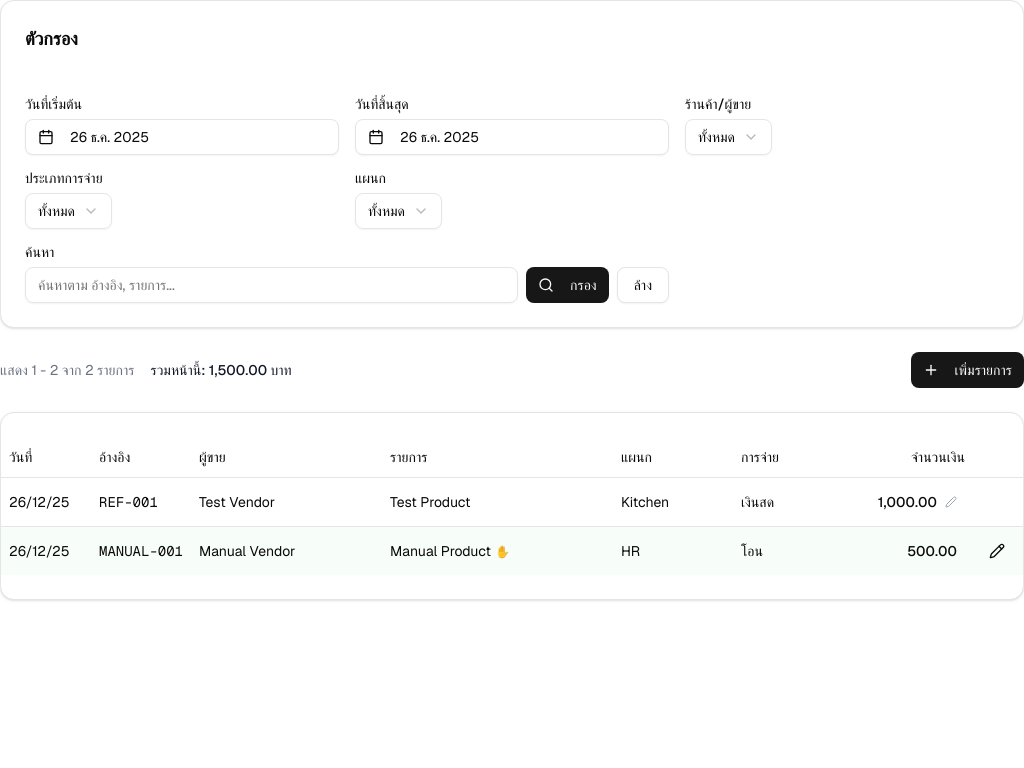
Date Picker Shortcuts › should render date shortcut buttons when date picker is opened
Click the button "26 ธ.ค. 2025" below "วันที่เริ่มต้น" at (109, 137), box [25,119,339,155]
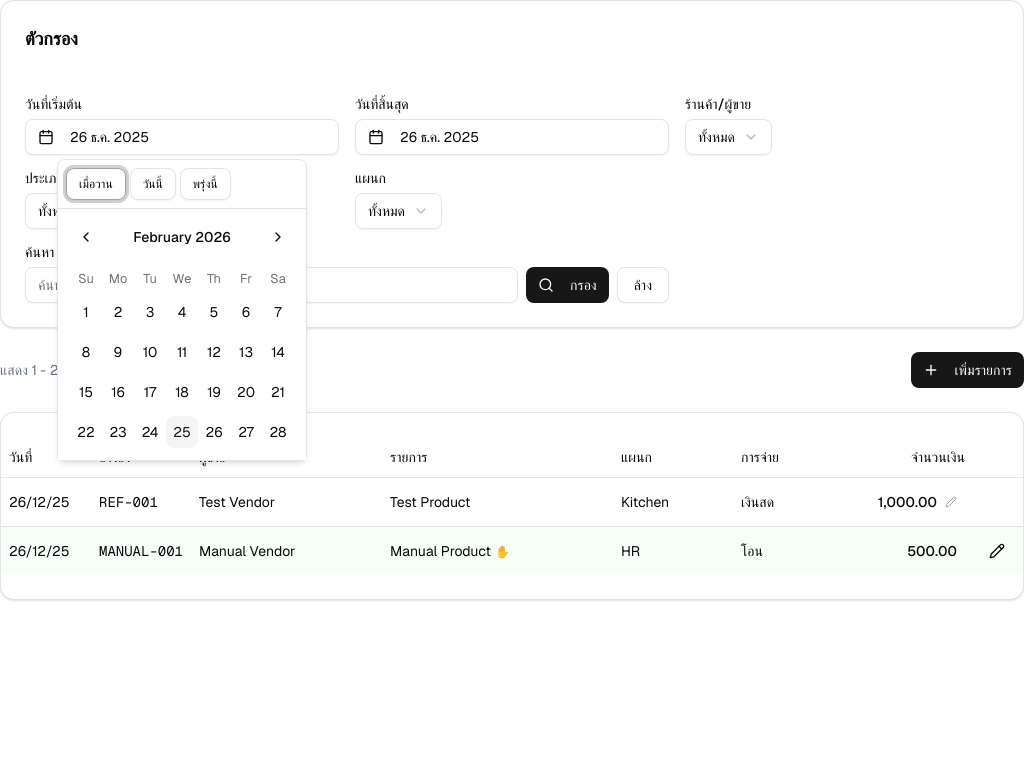
Expected: the button "เมื่อวาน" is shown, [66,168,126,200]
Expected: the button "วันนี้" is shown, [130,168,176,200]
Expected: the button "พรุ่งนี้" is shown, [180,168,231,200]
